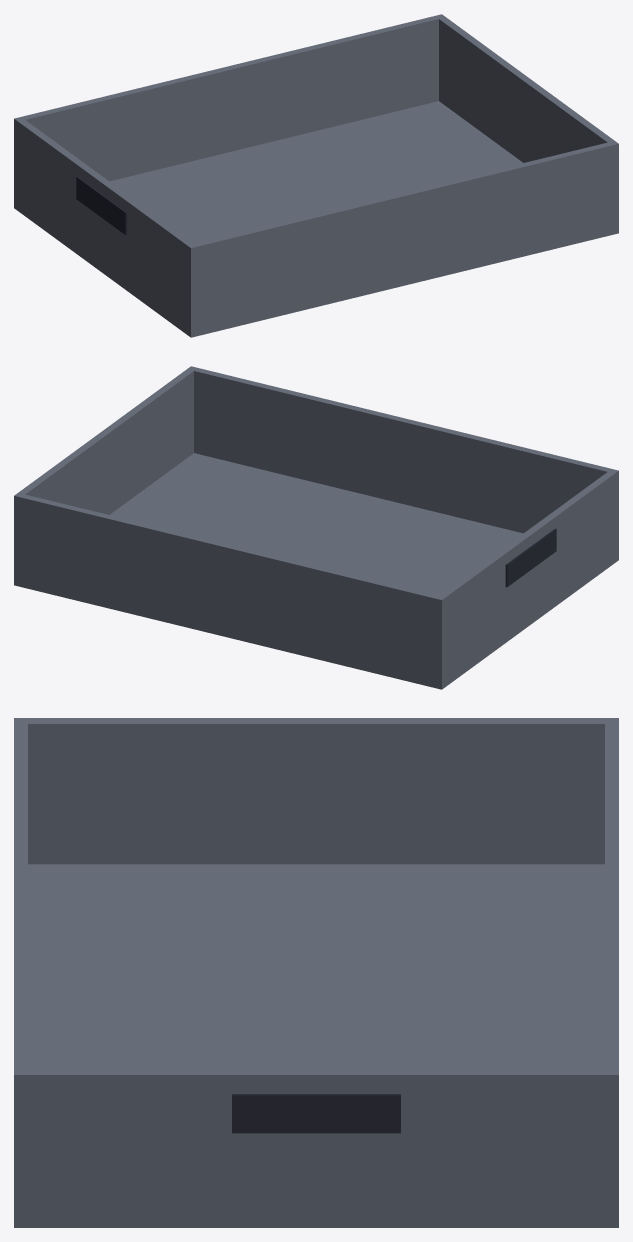
The model's file is air-030.glb.
3 renders of one model, top to bottom at view 1: azimuth 30°, elevation 25°; view 2: azimuth 150°, elevation 25°; view 3: azimuth 270°, elevation 25°, orthographic. The views are drawn at different scales.
Parts seen in each view (by area): view 1: side_long_2, side_long_1, base, side_short_1, side_short_2, hand_slot_1; view 2: side_long_1, side_long_2, base, side_short_1, side_short_2, hand_slot_1; view 3: base, side_short_1, side_short_2, side_long_1, side_long_2, hand_slot_2.
Part boxes in pixels (x1,y1,x2,y2): side_long_2: (187,141,618,330); side_long_1: (14,14,445,203); base: (14,101,618,337); side_short_1: (18,120,193,326); side_short_2: (439,17,614,162); hand_slot_1: (76,176,127,235); side_long_1: (14,493,445,682); side_long_2: (187,366,618,555); base: (14,453,618,689); side_short_1: (439,472,614,678); side_short_2: (18,369,193,514); hand_slot_1: (505,528,556,587); base: (14,864,618,1227); side_short_1: (28,718,604,864); side_short_2: (28,1069,604,1214); side_long_1: (605,718,618,1214); side_long_2: (14,718,27,1214); hand_slot_2: (232,1094,400,1133).
Bounding box in the file's own units: 0.604 × 0.12 × 0.43.
